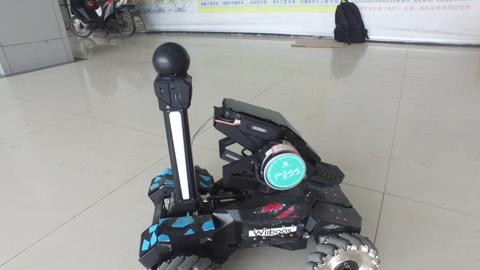chariot: (111, 52, 387, 270)
